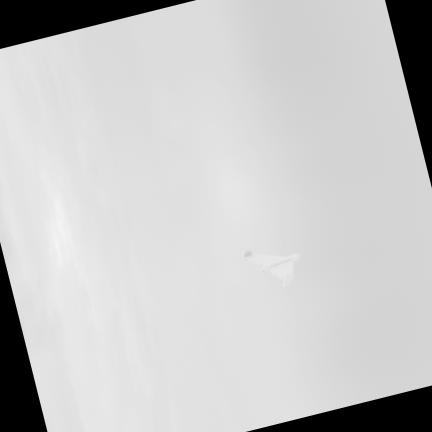Shahed: (242, 248, 299, 284)
